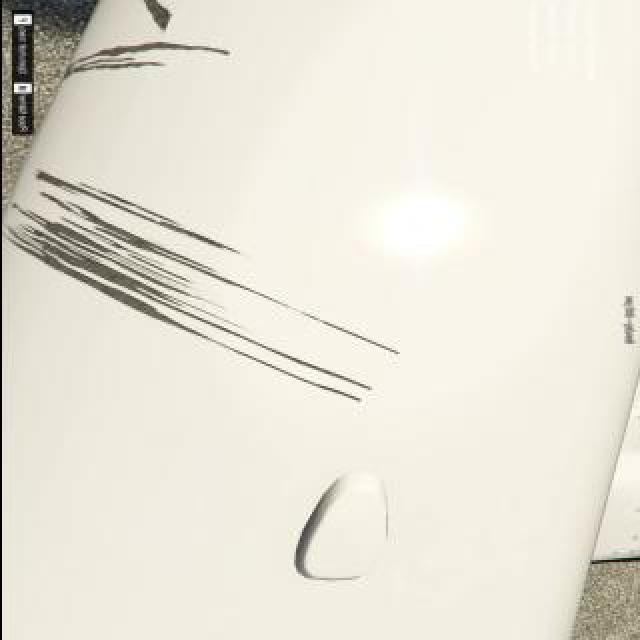dent: (7, 239, 195, 336), (39, 195, 197, 270), (35, 229, 184, 307), (37, 171, 182, 238), (53, 224, 160, 277), (72, 41, 223, 64), (163, 224, 238, 250), (68, 63, 161, 74), (142, 2, 175, 29)
